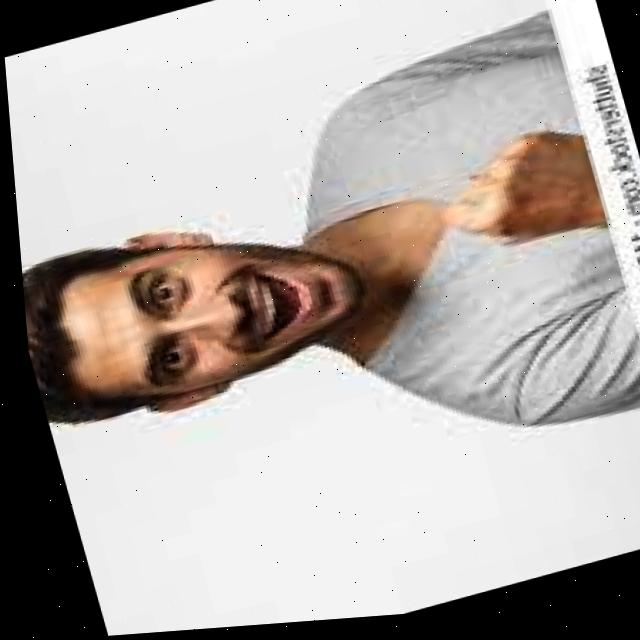happy: (11, 145, 386, 486)
